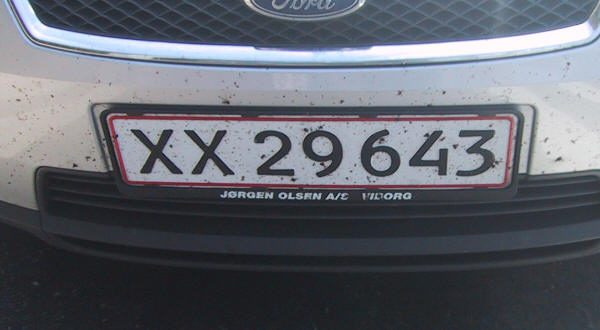license_plate: (108, 112, 520, 192)
